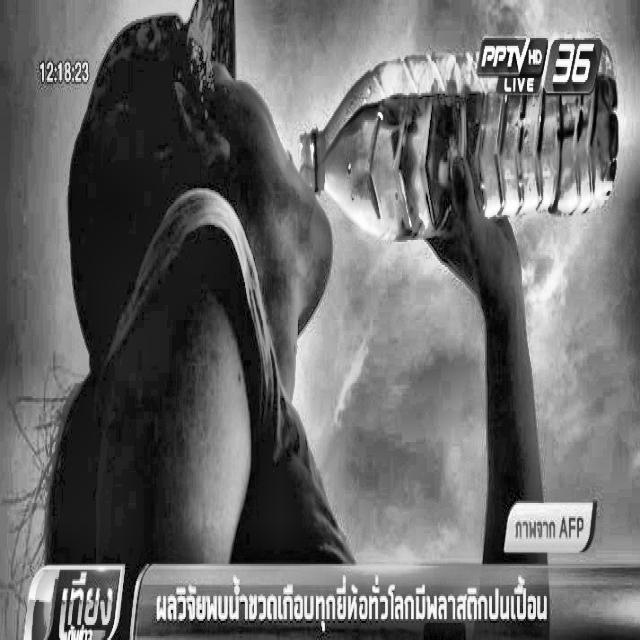waterbottle: (282, 28, 626, 253)
